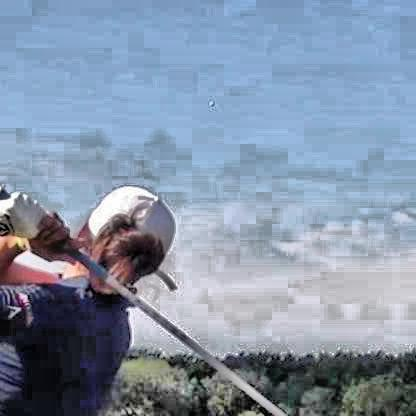golfball: (206, 98, 211, 105)
